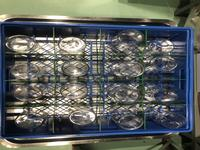Glass: (149, 108, 187, 129), (12, 107, 48, 129), (111, 29, 145, 49), (13, 83, 48, 102), (112, 109, 143, 130), (67, 105, 96, 126), (5, 34, 37, 53), (10, 63, 46, 79), (108, 86, 140, 104), (146, 87, 178, 104), (60, 80, 88, 99), (144, 38, 175, 55), (144, 56, 178, 71), (111, 62, 144, 77), (58, 36, 87, 53), (61, 60, 90, 76)
